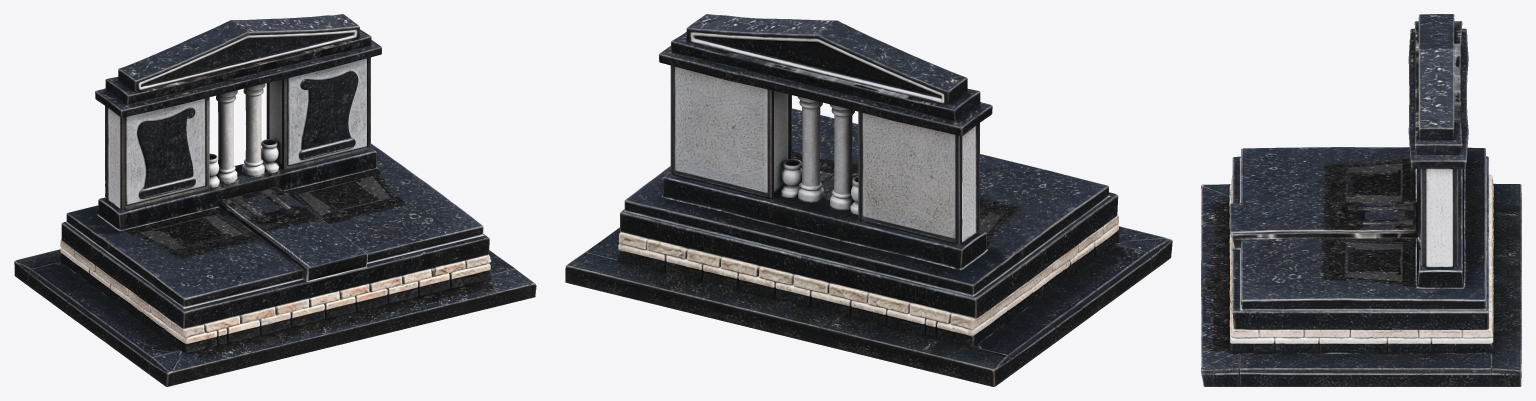
Rendered from agentic_0005_pack_glb_model.glb.
3 views of the same model, side by side, from view 1: azimuth 30°, elevation 25°; view 2: azimuth 150°, elevation 25°; view 3: azimuth 270°, elevation 25° (orthographic). The views are drawn at different scales.
Visible parts, largest first — view 1: model; view 2: model; view 3: model.
Boxes of the visible parts, x1=… form: model: x1=14, y1=14, x2=536, y2=386; model: x1=565, y1=14, x2=1172, y2=386; model: x1=1201, y1=14, x2=1521, y2=386.
Bounding box in the file's own units: 1.98 × 1.2 × 1.43.
Materials: 1 (1 with a texture image).
